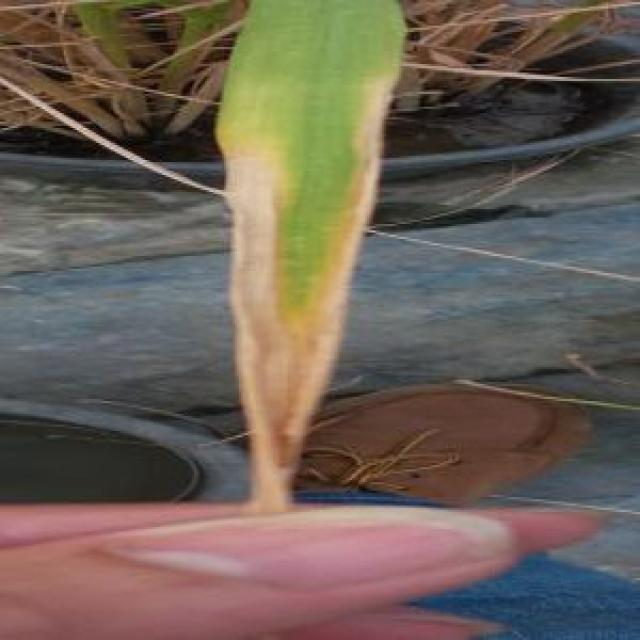Bacterial_Blight: (222, 77, 402, 508), (220, 148, 324, 508)
